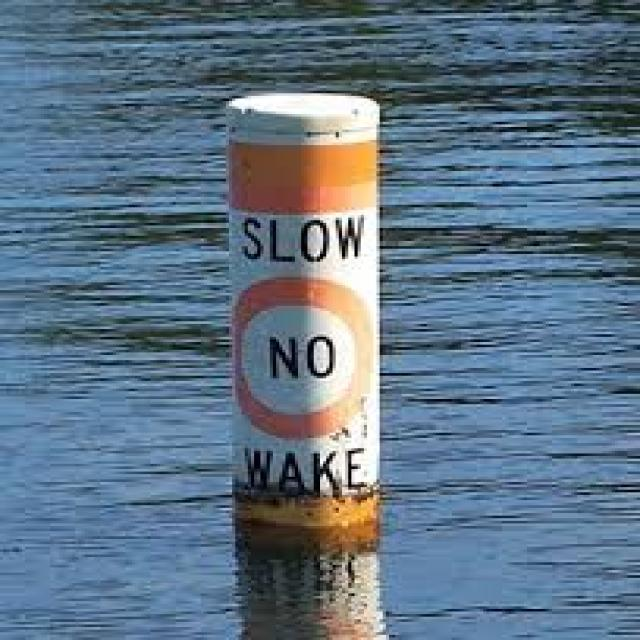buoy: (191, 58, 413, 569)
